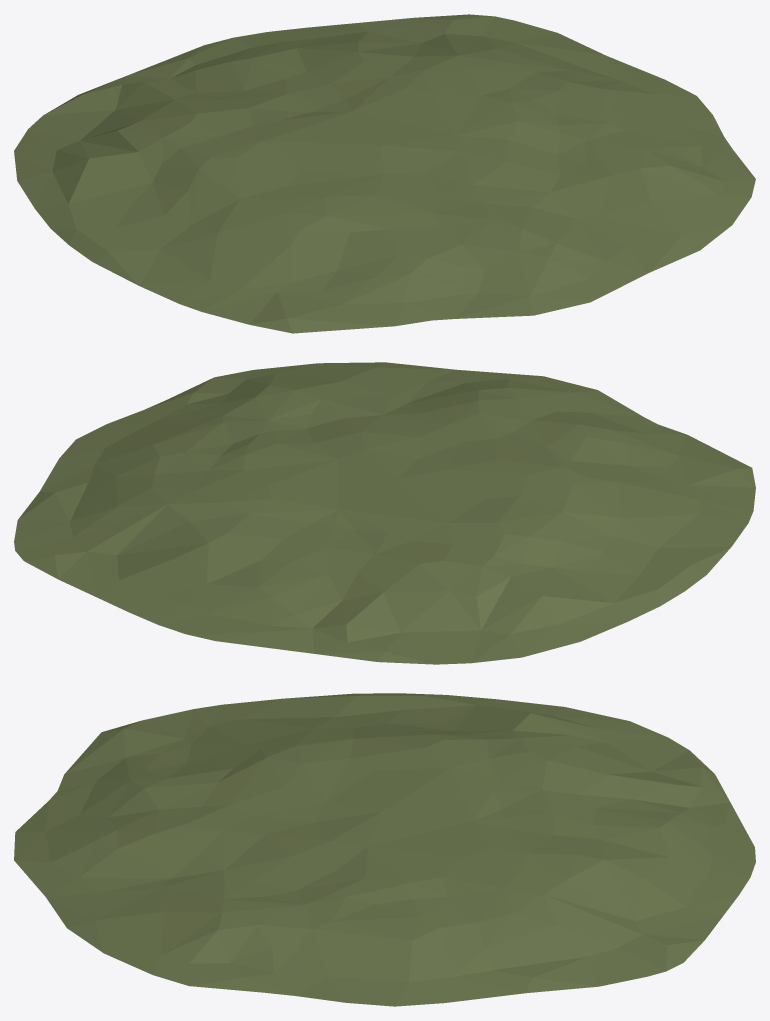
Rendered from SM_Envr_Nature_Terrain_Ground_07.fbx.
The picture shows the model from 3 angles, top to bottom: view 1: azimuth 30°, elevation 25°; view 2: azimuth 150°, elevation 25°; view 3: azimuth 270°, elevation 25°; orthographic projection. The views are drawn at different scales.
Parts seen in each view (by area): view 1: SM_Envr_Nature_Terrain_Ground_07; view 2: SM_Envr_Nature_Terrain_Ground_07; view 3: SM_Envr_Nature_Terrain_Ground_07.
Boxes of the visible parts, left/top/right/bottom form: SM_Envr_Nature_Terrain_Ground_07: left=14, top=14, right=755, bottom=333; SM_Envr_Nature_Terrain_Ground_07: left=14, top=362, right=755, bottom=664; SM_Envr_Nature_Terrain_Ground_07: left=14, top=693, right=755, bottom=1006.
Bounding box in the file's own units: 897 × 48.01 × 898.
